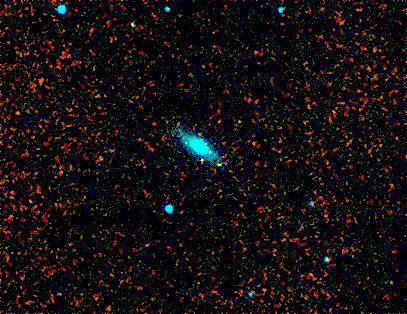star: (188, 142, 218, 172)
